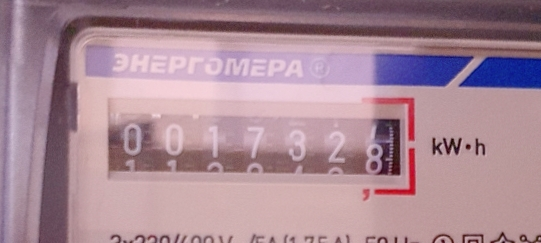0: (122, 120, 144, 157), (163, 123, 184, 157)
1: (206, 123, 221, 159)
2: (325, 130, 346, 166)
3: (285, 128, 308, 163)
7: (243, 123, 267, 161)
8: (363, 141, 383, 176)
screen: (97, 95, 420, 199)
